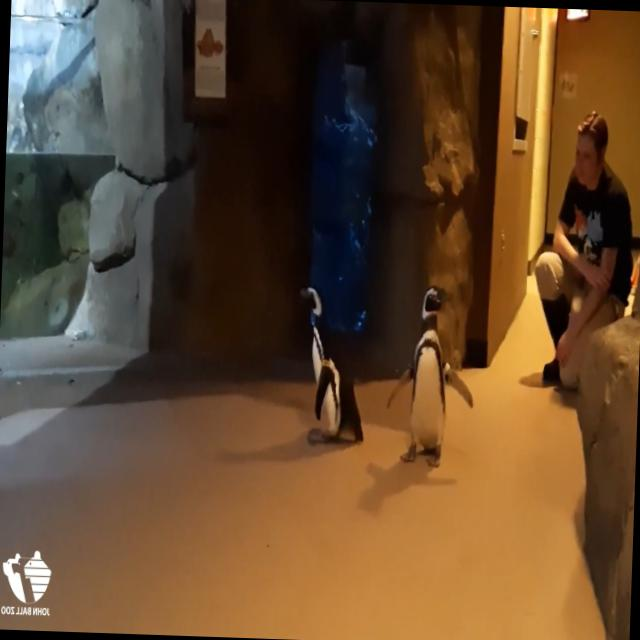penguin: (383, 284, 477, 472), (294, 280, 368, 447)
